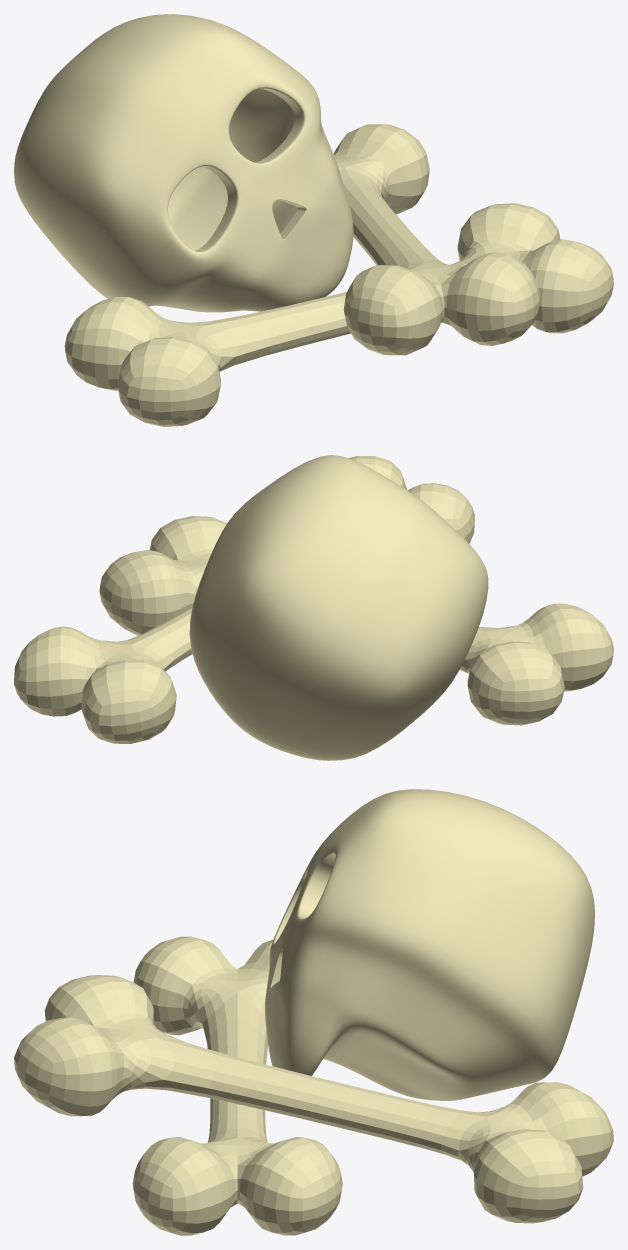
File: M_Ossa.fbx
3 views of the same model, one above another, from view 1: azimuth 30°, elevation 25°; view 2: azimuth 150°, elevation 25°; view 3: azimuth 270°, elevation 25° (orthographic). The views are drawn at different scales.
Visible parts, largest first — view 1: CumuloOssa; view 2: CumuloOssa; view 3: CumuloOssa.
Boxes of the visible parts, x1,y1,x2,y2 form: CumuloOssa: [14, 14, 613, 426]; CumuloOssa: [14, 455, 613, 760]; CumuloOssa: [14, 789, 613, 1235].
Size of the model in its own units: 1.71 by 0.9531 by 1.73.
